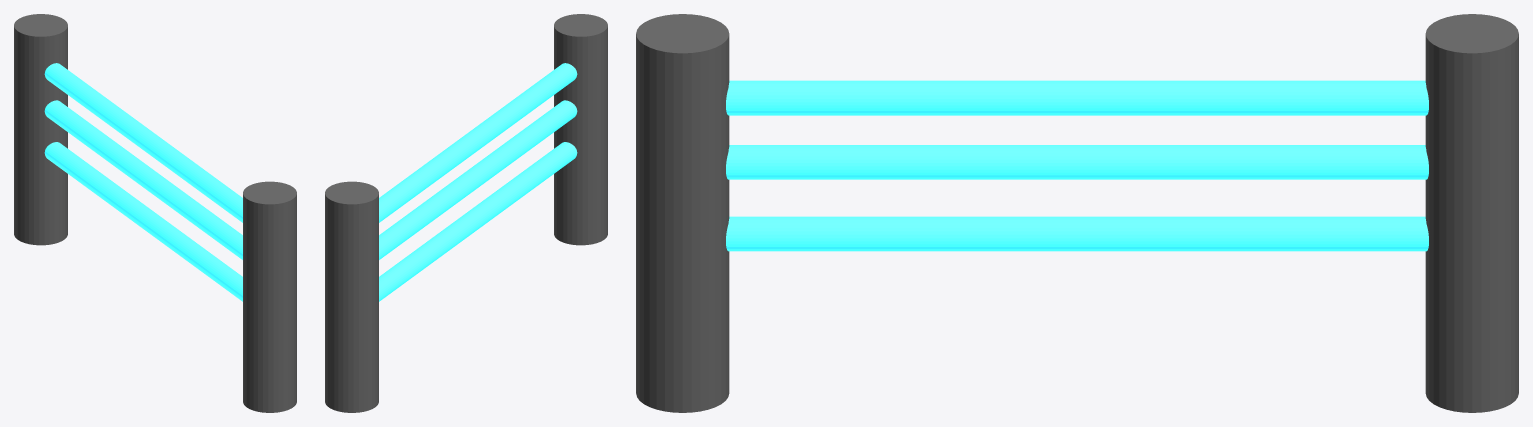
File: Fence.glb
3 renders of one model, left to right at view 1: azimuth 30°, elevation 25°; view 2: azimuth 150°, elevation 25°; view 3: azimuth 270°, elevation 25°, orthographic. The views are drawn at different scales.
Parts seen in each view (by area): view 1: PoleA, PoleB, BeamB, BeamA, BeamC; view 2: PoleB, PoleA, BeamB, BeamA, BeamC; view 3: PoleA, PoleB, BeamA, BeamC, BeamB.
Part boxes in pixels (x1,y1,x2,y2): PoleA: [243, 181, 296, 412]; PoleB: [14, 14, 67, 245]; BeamB: [44, 100, 242, 259]; BeamA: [44, 63, 242, 222]; BeamC: [44, 142, 242, 301]; PoleB: [325, 181, 378, 412]; PoleA: [554, 14, 607, 245]; BeamB: [379, 100, 577, 259]; BeamA: [379, 63, 577, 222]; BeamC: [379, 142, 577, 301]; PoleA: [636, 14, 729, 412]; PoleB: [1425, 14, 1518, 412]; BeamA: [726, 80, 1428, 115]; BeamC: [726, 216, 1428, 251]; BeamB: [726, 145, 1428, 179].
Size of the model in its own units: 0.4698 by 2 by 4.45.
